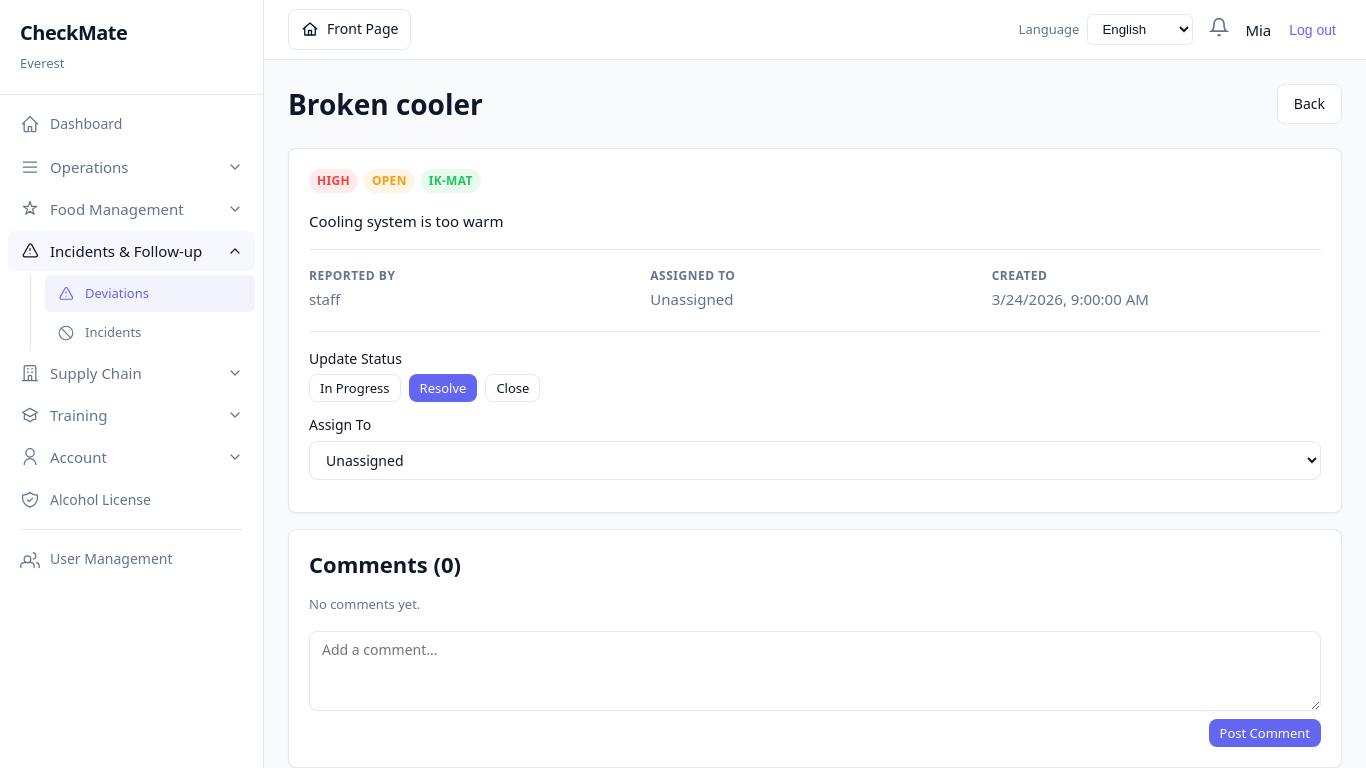
Test: deviation comments › posts a comment on a deviation detail page
Type "Technician booked for today." into the text box with placeholder "Add a comment..." at (815, 671), box x1=309 y1=631 x2=1321 y2=711
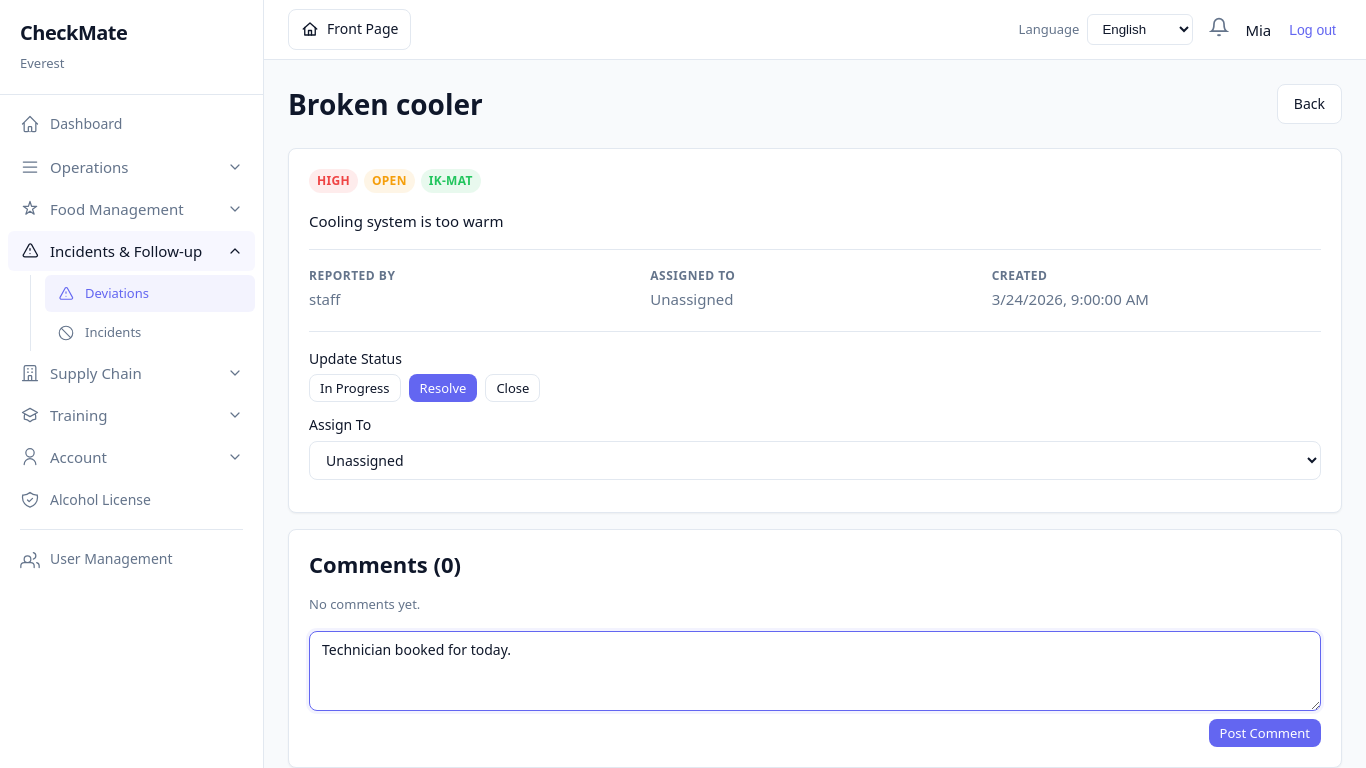
Click the button "Post Comment" at (1266, 733), box x1=1209 y1=719 x2=1322 y2=747
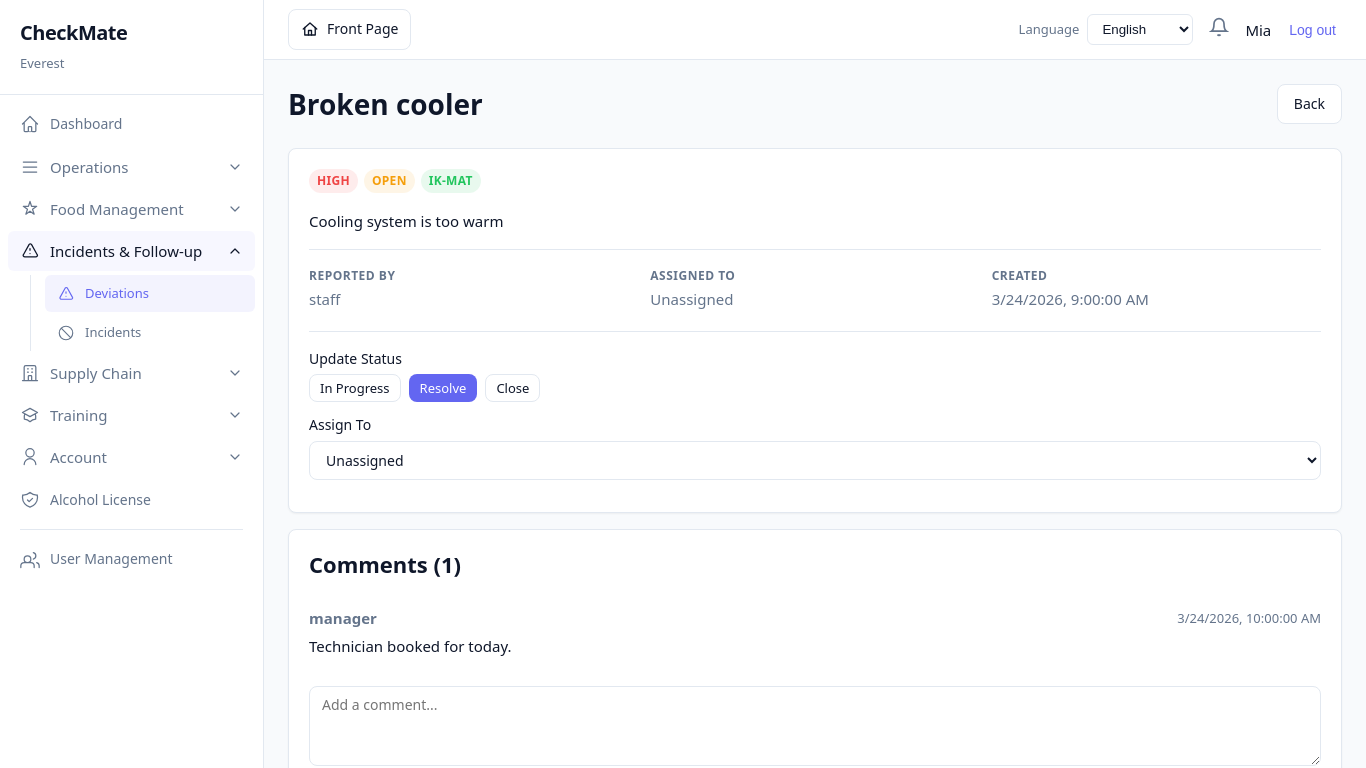
Result: the text "Technician booked for today." is shown at x1=309 y1=636 x2=512 y2=656
Result: the text "manager" is shown at x1=309 y1=606 x2=377 y2=630
